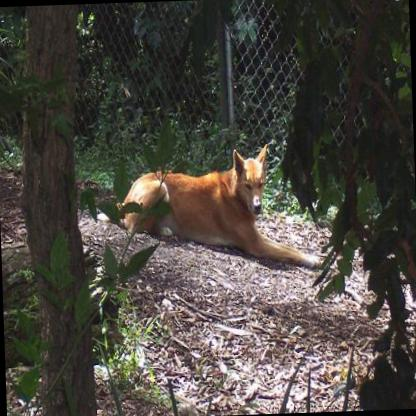dingo: (112, 141, 325, 274)
